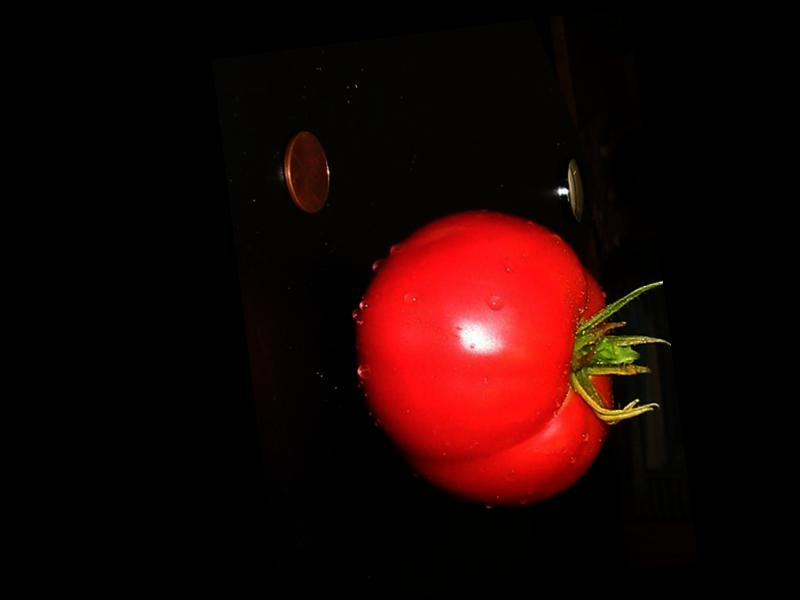Tomato: (338, 195, 631, 526)
